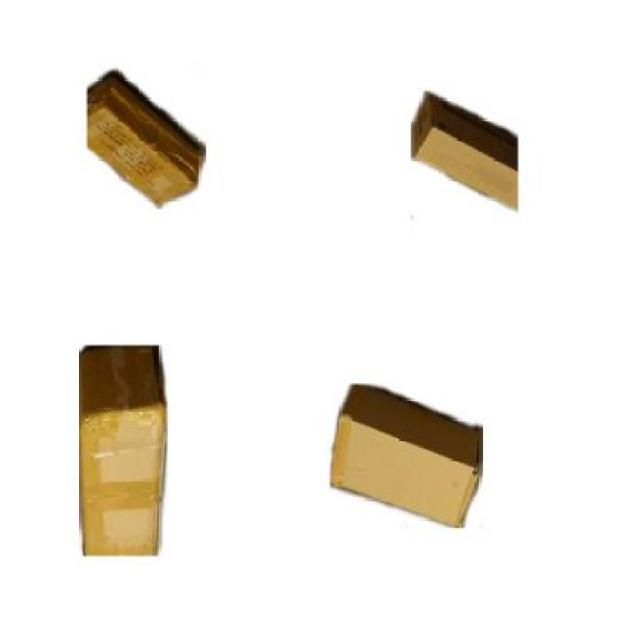cardboxes: (329, 384, 483, 528), (80, 345, 166, 553), (87, 79, 199, 206), (412, 95, 519, 210)
